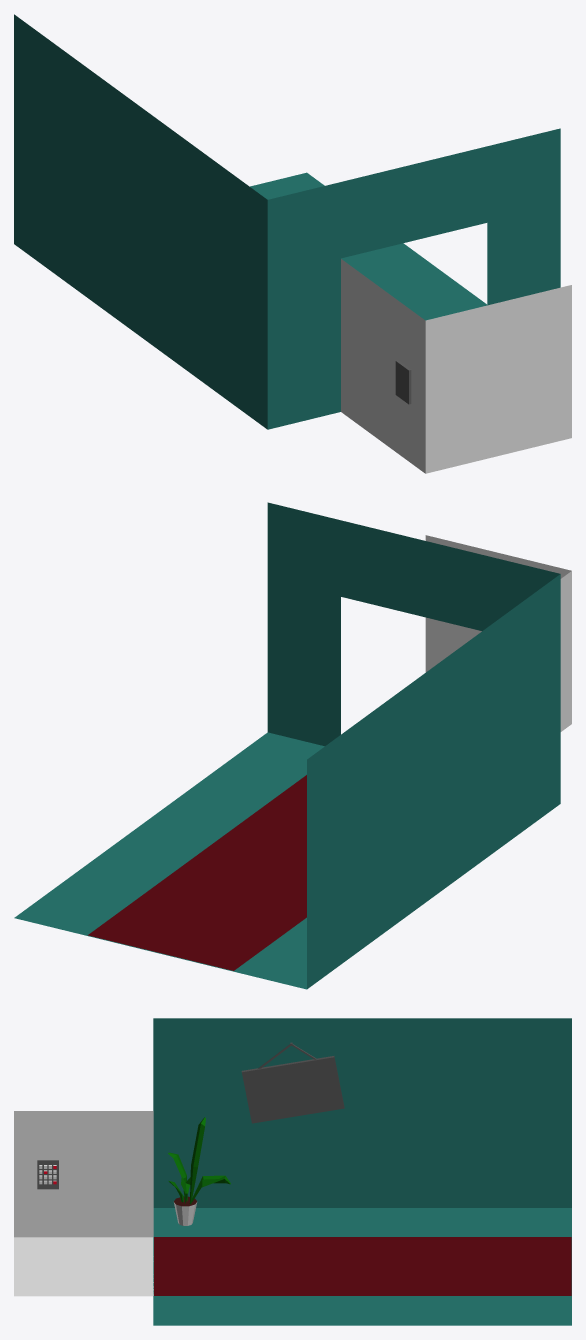
Rendered from Floor.fbx.
3 views of the same model, one above another, from view 1: azimuth 30°, elevation 25°; view 2: azimuth 150°, elevation 25°; view 3: azimuth 270°, elevation 25° (orthographic). The views are drawn at different scales.
Visible parts, largest first — view 1: Plane, Cube, Cube.001; view 2: Plane, Plane.001, Cube; view 3: Plane, Cube, Plane.001, Cube.003, Cylinder, Cube.001.
Boxes of the visible parts, left/top/right/bottom form: Plane: left=14, top=14, right=560, bottom=429; Cube: left=341, top=259, right=571, bottom=473; Cube.001: left=395, top=360, right=411, bottom=404; Plane: left=14, top=502, right=560, bottom=989; Plane.001: left=88, top=775, right=306, bottom=970; Cube: left=425, top=535, right=571, bottom=731; Plane: left=153, top=1018, right=571, bottom=1325; Cube: left=14, top=1111, right=153, bottom=1296; Plane.001: left=154, top=1237, right=571, bottom=1295; Cube.003: left=241, top=1042, right=344, bottom=1123; Cylinder: left=168, top=1117, right=230, bottom=1225; Cube.001: left=37, top=1160, right=58, bottom=1189.
Size of the model in its own units: 200 by 150 by 400.
